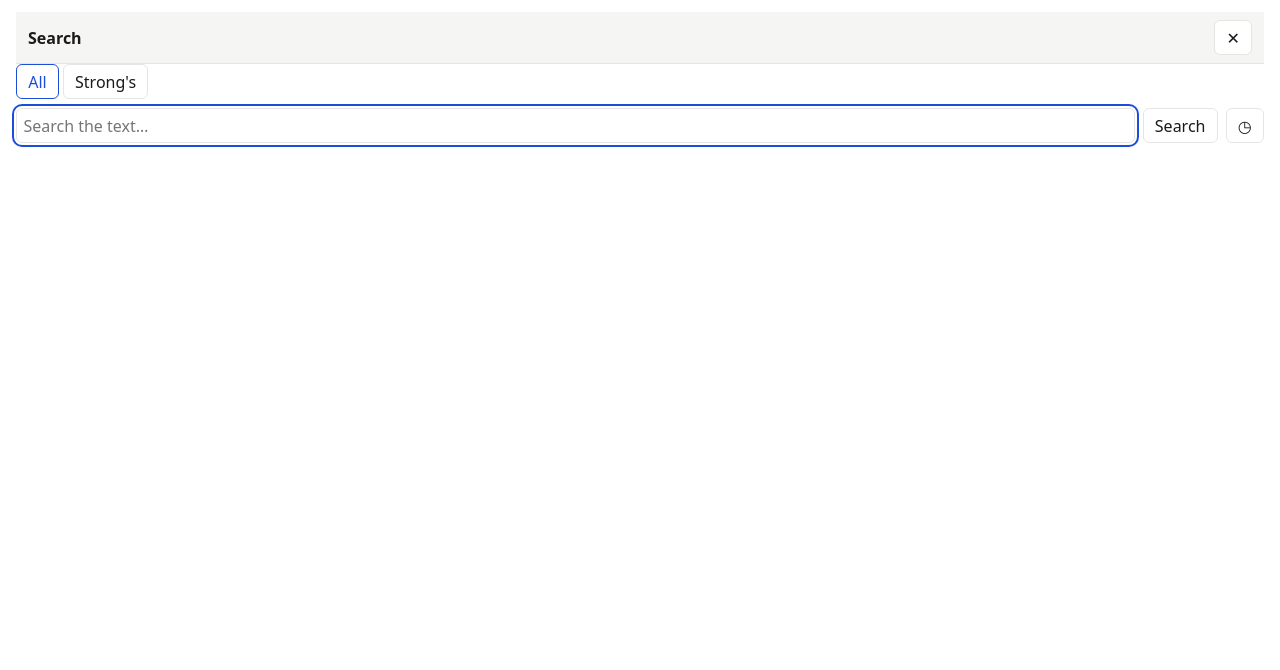
Test case: SearchPanel › lists only work types supported by the current search providers
The image size is (1280, 670).
In the search field with placeholder "Search the text…": (575, 126) [16, 108, 1135, 143], type "earth"
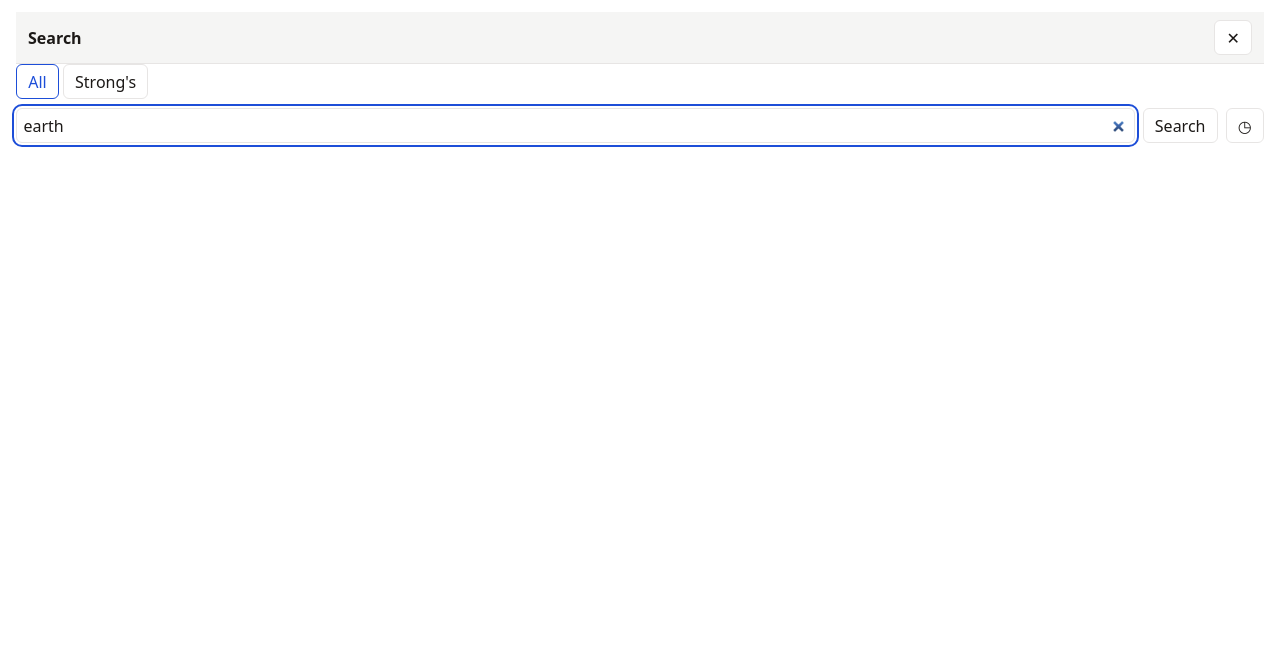
Submit the form "Search", box [16, 108, 1264, 143]
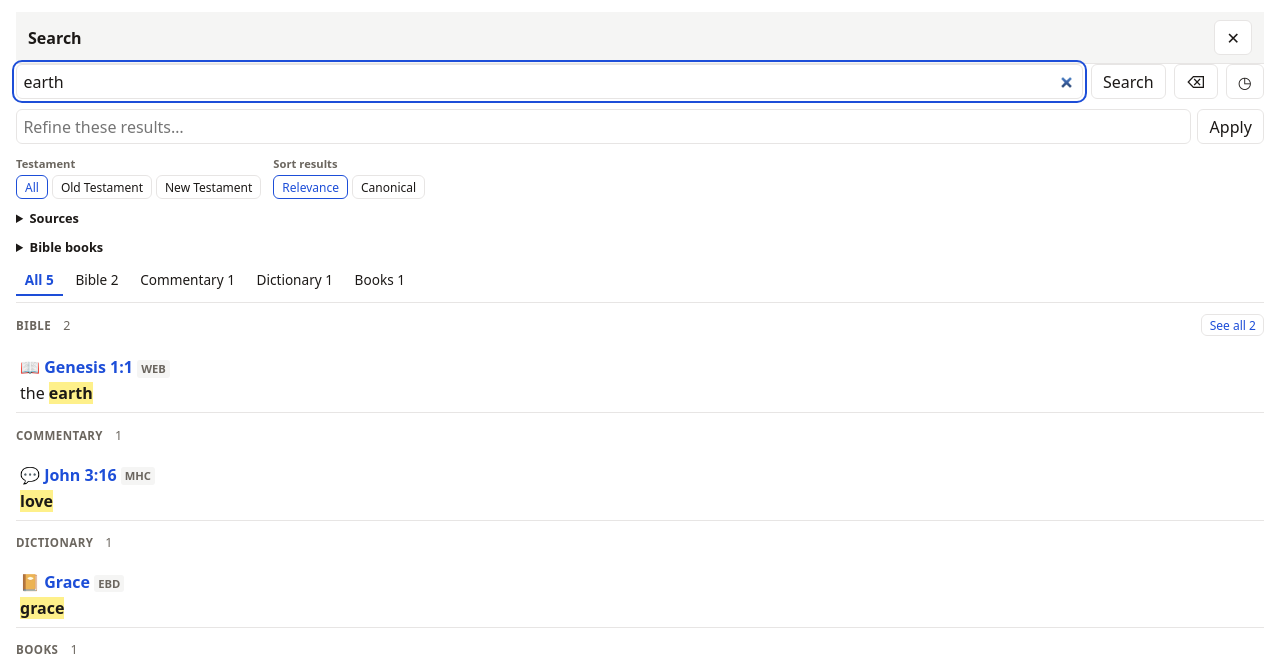
Click the heading "Sources": click(54, 218) [30, 209, 79, 227]
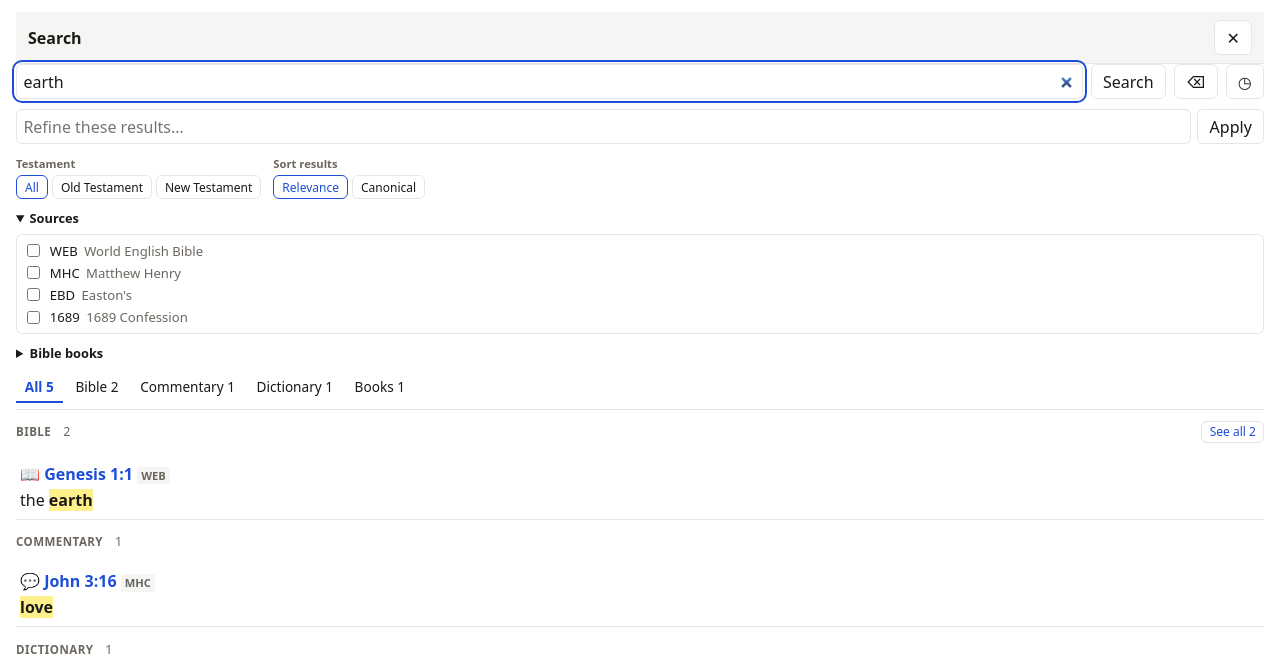
Expected: the text "World English Bible" is shown, [84, 242, 203, 260]
